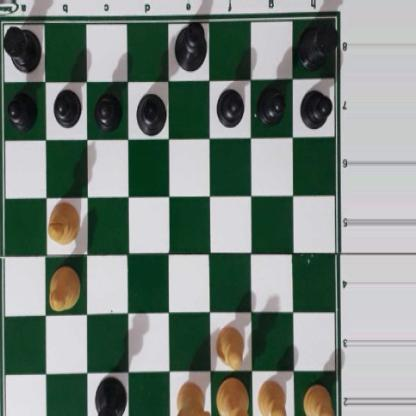black-bishop: (135, 93, 167, 136)
black-king: (173, 19, 208, 72)
black-pawn: (94, 89, 124, 134), (300, 86, 331, 129), (216, 84, 244, 127), (7, 89, 36, 128), (258, 83, 285, 124), (53, 87, 80, 128)
black-queen: (94, 374, 127, 416)
black-rook: (298, 20, 340, 69), (1, 22, 42, 72)
white-bishop: (48, 266, 81, 312), (47, 200, 80, 245)
white-king: (216, 376, 253, 416)
white-knight: (174, 380, 212, 416)
white-pawn: (214, 326, 245, 370), (257, 377, 288, 416), (302, 382, 334, 416)
